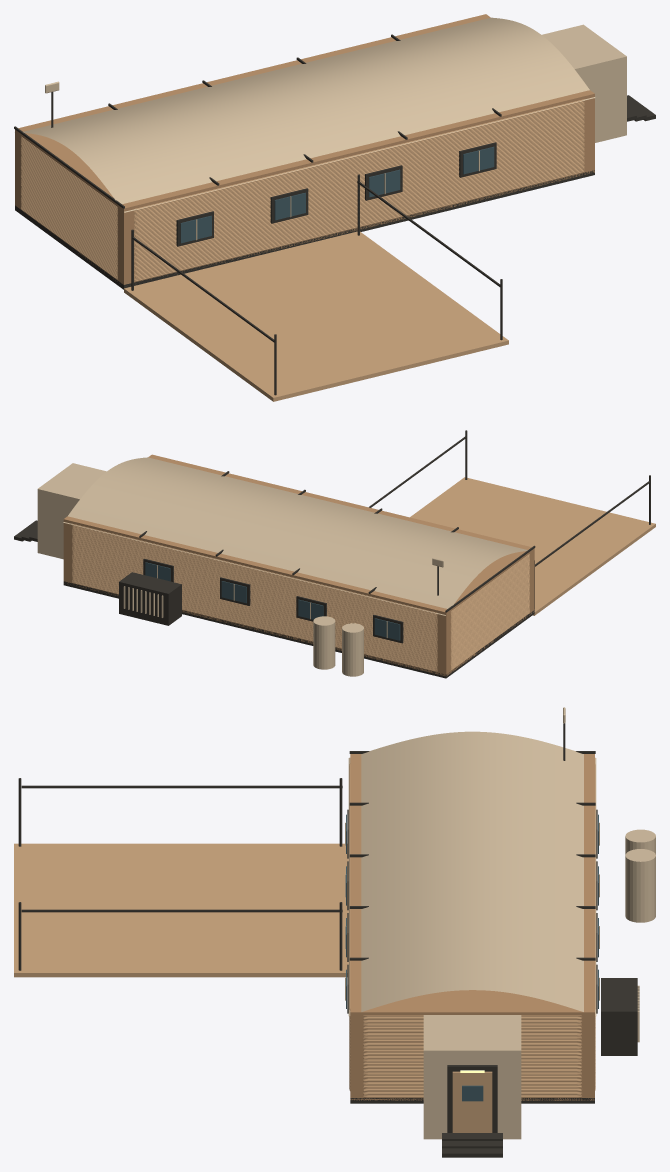
Rendered from habitat.glb.
The picture shows the model from 3 angles, top to bottom: view 1: azimuth 30°, elevation 25°; view 2: azimuth 150°, elevation 25°; view 3: azimuth 270°, elevation 25°; orthographic projection. The views are drawn at different scales.
Visible parts, largest first — view 1: 57 additive manufacturing layers, Exterior EVA area - 110 m2 conceptual, Printed main envelope, Low vaulted roof 5, Low vaulted roof 1, Low vaulted roof 2, Low vaulted roof 4, Low vaulted roof 3, Airlock pressure module, 160 m2 footprint - conceptual, Dark observation window.001, Dark observation window (+2 smaller); view 2: 57 additive manufacturing layers, Exterior EVA area - 110 m2 conceptual, Printed main envelope, Low vaulted roof 5, Low vaulted roof 2, Low vaulted roof 3, Low vaulted roof 4, Low vaulted roof 1, Airlock pressure module, Life support cabinet, 160 m2 footprint - conceptual, Life support tank.001 (+4 smaller); view 3: Exterior EVA area - 110 m2 conceptual, Printed main envelope, Low vaulted roof 5, Low vaulted roof 2, Low vaulted roof 4, Low vaulted roof 1, Low vaulted roof 3, 57 additive manufacturing layers, Airlock pressure module, Life support cabinet, Life support tank.001, Airlock hatch (+4 smaller).
Part boxes in pixels (<box>): 57 additive manufacturing layers: <box>21,99,584,281</box>; Exterior EVA area - 110 m2 conceptual: <box>124,231,508,401</box>; Printed main envelope: <box>15,14,594,284</box>; Low vaulted roof 5: <box>400,17,595,120</box>; Low vaulted roof 1: <box>23,109,218,212</box>; Low vaulted roof 2: <box>117,86,312,189</box>; Low vaulted roof 4: <box>306,41,500,143</box>; Low vaulted roof 3: <box>212,64,406,166</box>; Airlock pressure module: <box>542,24,626,142</box>; 160 m2 footprint - conceptual: <box>15,170,594,289</box>; Dark observation window.001: <box>274,192,305,220</box>; Dark observation window: <box>180,215,211,243</box>; 57 additive manufacturing layers: <box>72,523,529,671</box>; Exterior EVA area - 110 m2 conceptual: <box>410,477,655,615</box>; Printed main envelope: <box>63,454,534,676</box>; Low vaulted roof 5: <box>63,457,221,540</box>; Low vaulted roof 2: <box>293,513,451,596</box>; Low vaulted roof 3: <box>216,495,374,578</box>; Low vaulted roof 4: <box>140,476,298,559</box>; Low vaulted roof 1: <box>369,532,527,615</box>; Airlock pressure module: <box>37,463,106,559</box>; Life support cabinet: <box>119,572,181,625</box>; 160 m2 footprint - conceptual: <box>63,581,534,678</box>; Life support tank.001: <box>313,616,335,669</box>; Exterior EVA area - 110 m2 conceptual: <box>14,843,348,977</box>; Printed main envelope: <box>350,754,594,1100</box>; Low vaulted roof 5: <box>348,938,596,1016</box>; Low vaulted roof 2: <box>348,783,596,860</box>; Low vaulted roof 4: <box>348,886,596,964</box>; Low vaulted roof 1: <box>348,731,596,809</box>; Low vaulted roof 3: <box>348,835,596,912</box>; 57 additive manufacturing layers: <box>349,763,595,1097</box>; Airlock pressure module: <box>423,1015,521,1139</box>; Life support cabinet: <box>601,978,637,1055</box>; Life support tank.001: <box>625,849,655,922</box>; Airlock hatch: <box>452,1071,492,1132</box>.
Size of the model in its own units: 24.36 by 5.43 by 21.
